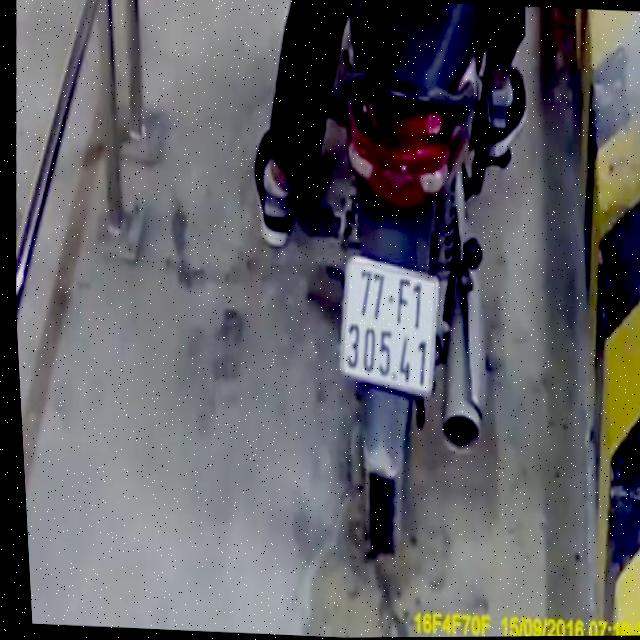motorcycle: (297, 0, 526, 571)
plate: (330, 249, 447, 401)
